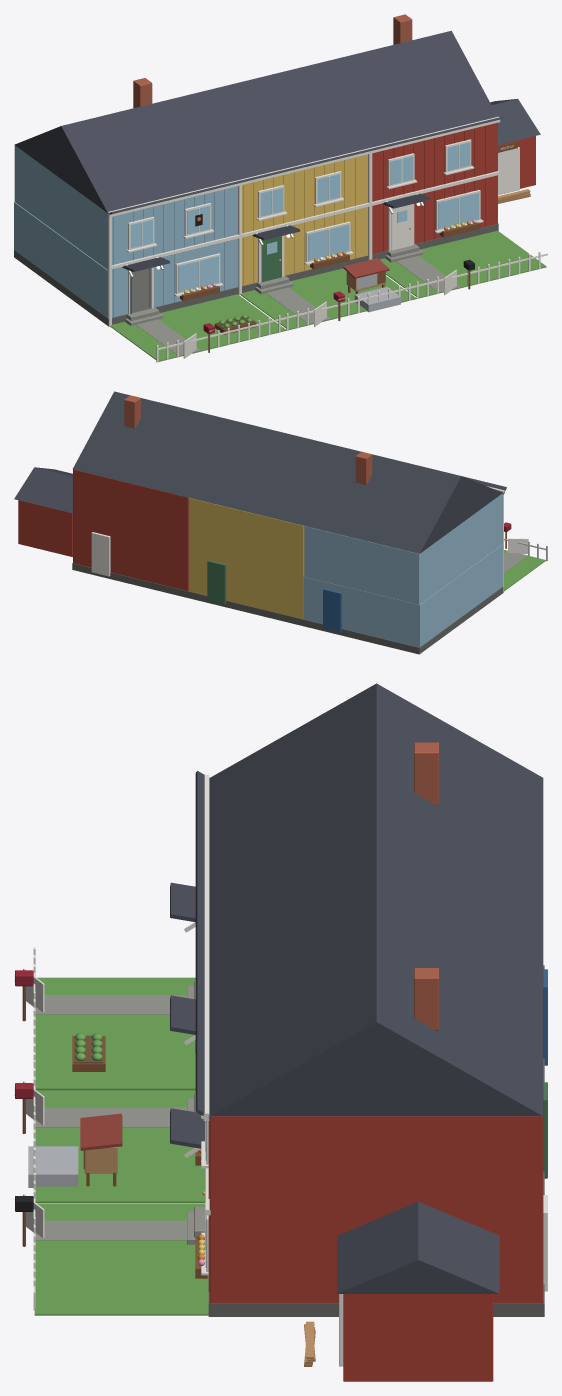
The model's file is radhus.glb.
3 views of the same model, one above another, from view 1: azimuth 30°, elevation 25°; view 2: azimuth 150°, elevation 25°; view 3: azimuth 270°, elevation 25° (orthographic). The views are drawn at different scales.
Visible parts, largest first — view 1: ArvidUpper_roof_Arvid, roof_Granne, roof_Louie, ArvidUpper_walls, walls_Louie, walls_Granne, lawn.002, ArvidWall_left, lawn, lawn.001, plinth_Arvid, shed_roof (+33 smaller); view 2: ArvidUpper_roof_Arvid, walls_Louie, roof_Louie, walls_Granne, ArvidUpper_walls, roof_Granne, ArvidWall_back, ArvidWall_left, shed, shed_roof, plinth_Arvid, back_door.002 (+7 smaller); view 3: roof_Granne, walls_Granne, roof_Louie, ArvidUpper_roof_Arvid, lawn.002, lawn, shed, shed_roof, lawn.001, path.002, plinth_Granne, path (+12 smaller).
Part boxes in pixels (box(x1,y1,x2,y2)): ArvidUpper_roof_Arvid: box(14, 94, 237, 212); roof_Granne: box(321, 30, 497, 148); roof_Louie: box(191, 62, 367, 179); ArvidUpper_walls: box(14, 145, 237, 269); walls_Louie: box(242, 154, 367, 285); walls_Granne: box(372, 122, 497, 254); lawn.002: box(380, 230, 546, 298); ArvidWall_left: box(16, 203, 108, 316); lawn: box(110, 294, 286, 361); lawn.001: box(240, 268, 416, 329); plinth_Arvid: box(14, 250, 238, 326); shed_roof: box(490, 98, 540, 144); ArvidUpper_roof_Arvid: box(304, 448, 502, 553); walls_Louie: box(188, 497, 304, 619); roof_Louie: box(188, 419, 345, 525); walls_Granne: box(73, 469, 188, 590); ArvidUpper_walls: box(304, 493, 502, 604); roof_Granne: box(73, 391, 229, 497); ArvidWall_back: box(303, 577, 421, 647); ArvidWall_left: box(417, 544, 503, 646); shed: box(18, 500, 72, 556); shed_roof: box(14, 467, 72, 513); plinth_Arvid: box(303, 587, 503, 654); back_door.002: box(91, 532, 110, 576); roof_Granne: box(210, 909, 543, 1116); walls_Granne: box(209, 1116, 543, 1303); roof_Louie: box(210, 796, 543, 1002); ArvidUpper_roof_Arvid: box(210, 683, 543, 890); lawn.002: box(34, 1203, 208, 1315); lawn: box(35, 977, 195, 1090); shed: box(343, 1294, 493, 1381); shed_roof: box(337, 1201, 499, 1293); lawn.001: box(35, 1090, 205, 1202); path.002: box(35, 1220, 186, 1240); plinth_Granne: box(208, 1191, 544, 1316); path: box(35, 995, 186, 1014).
Size of the model in its own units: 23.1 by 8.3 by 12.8.
